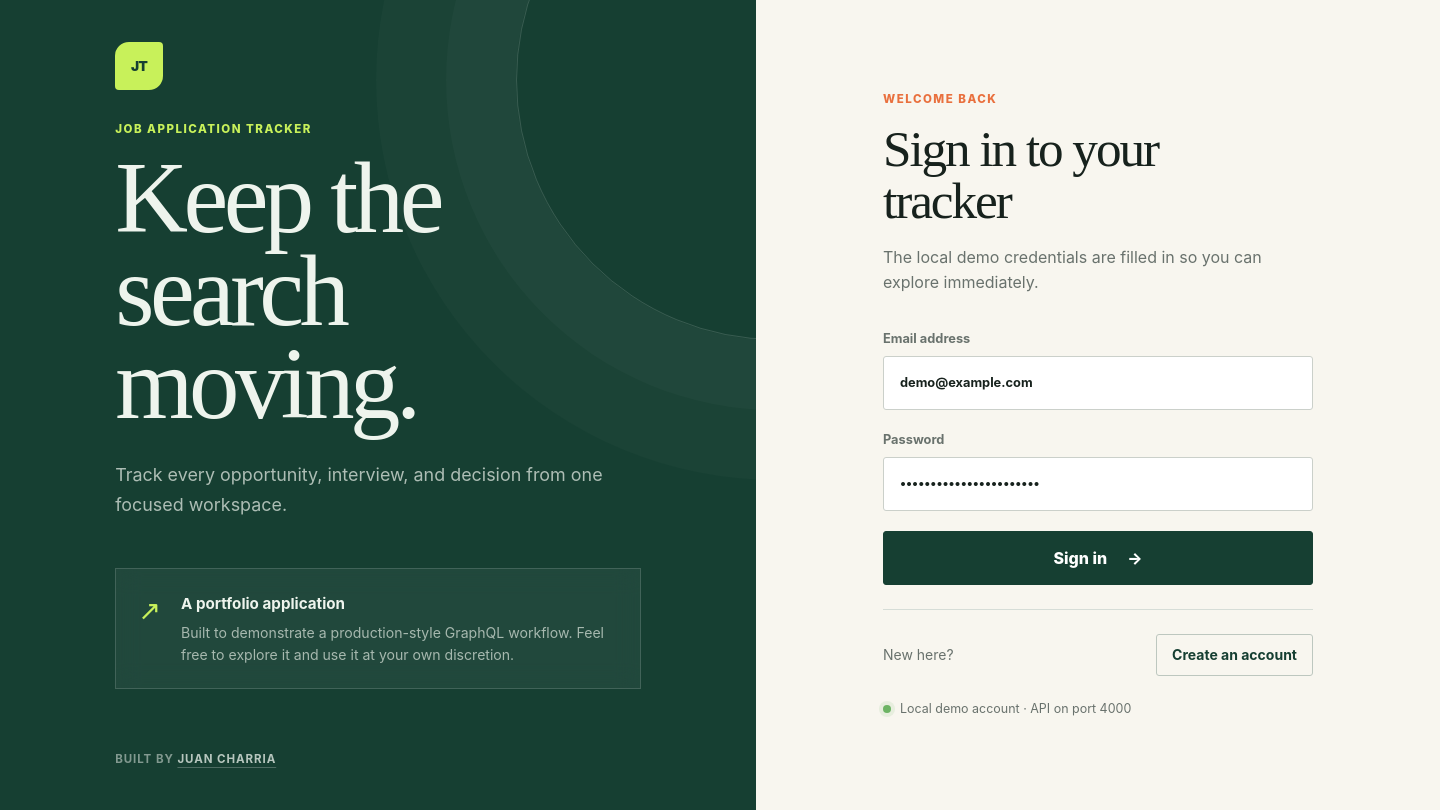
Test: LoginPage › renders a GraphQL network error without authenticating
The width and height of the screenshot is (1440, 810).
Click the button "Sign in →".
click(1098, 558)  # box [883,531,1313,585]
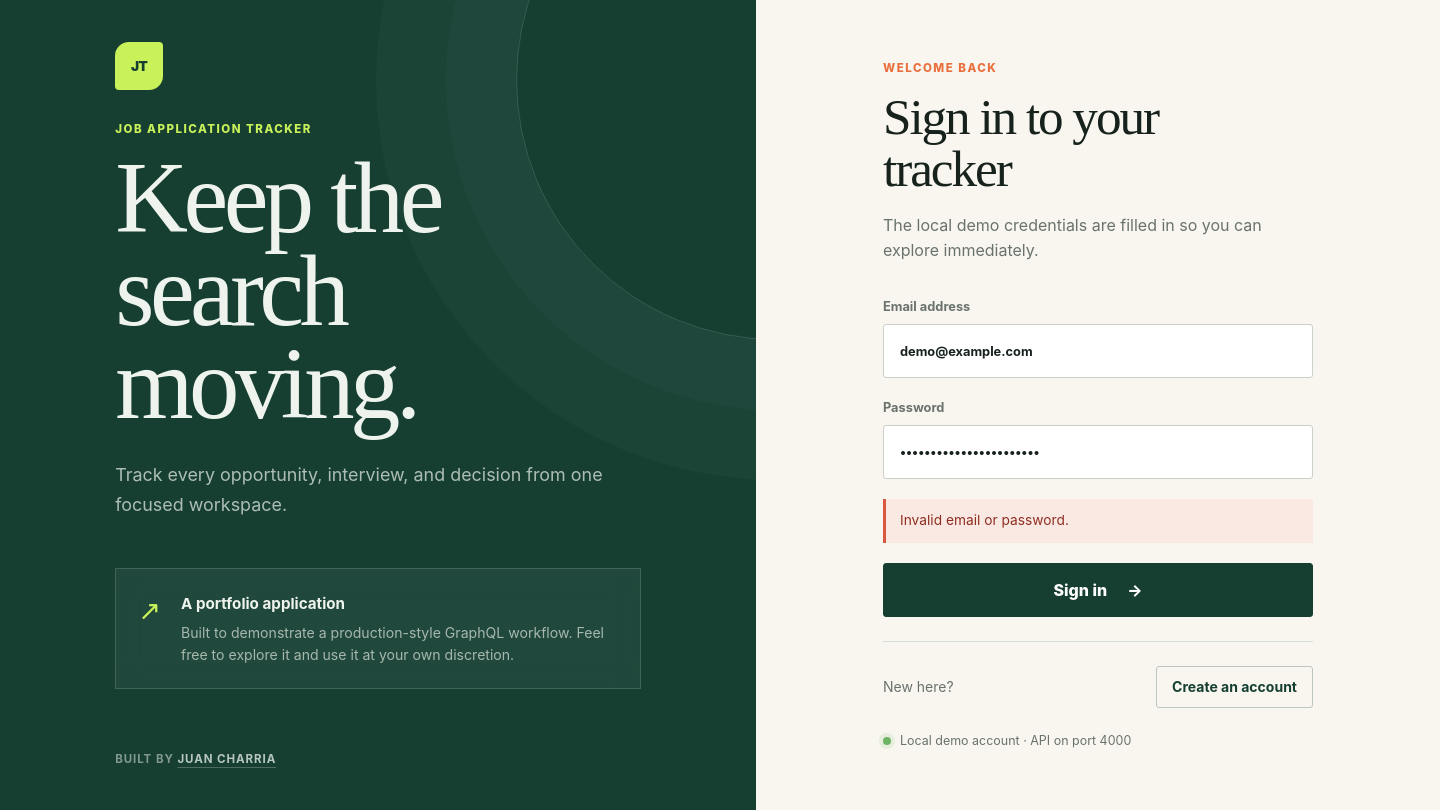
Check: the message reads "Invalid email or password.", box [900,512,1069,528]
